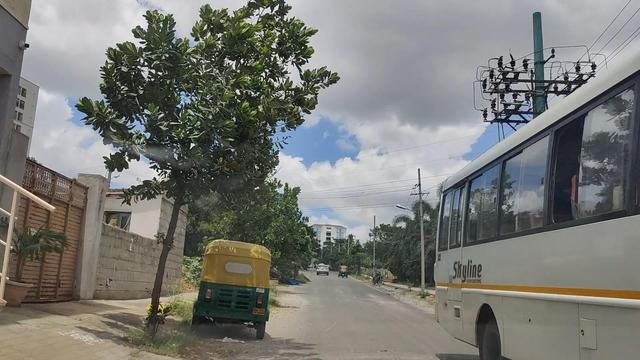HMV: (434, 61, 640, 360)
